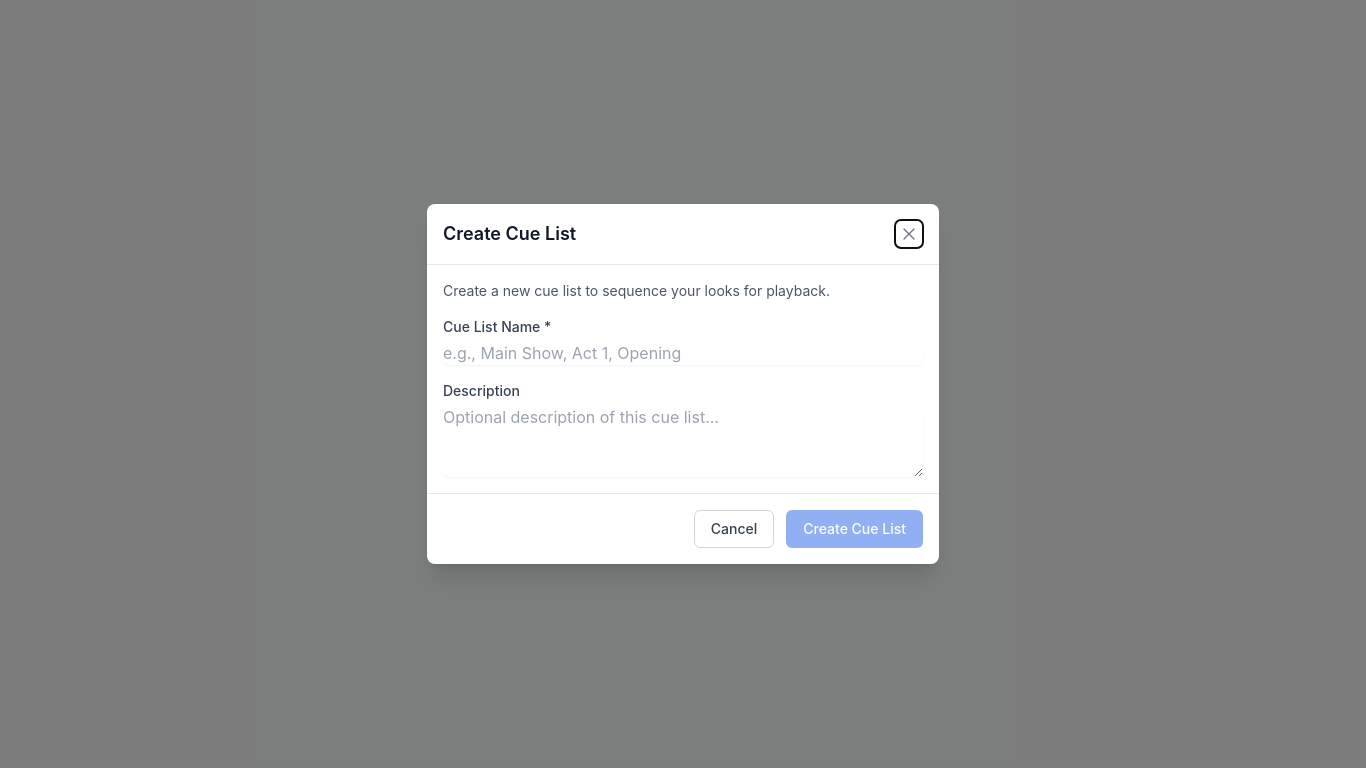
Test: CreateCueListModal › error handling › displays error message on mutation failure
Type "Test" into the field labelled "Cue List Name *" at (683, 353), box [443,341,923,365]
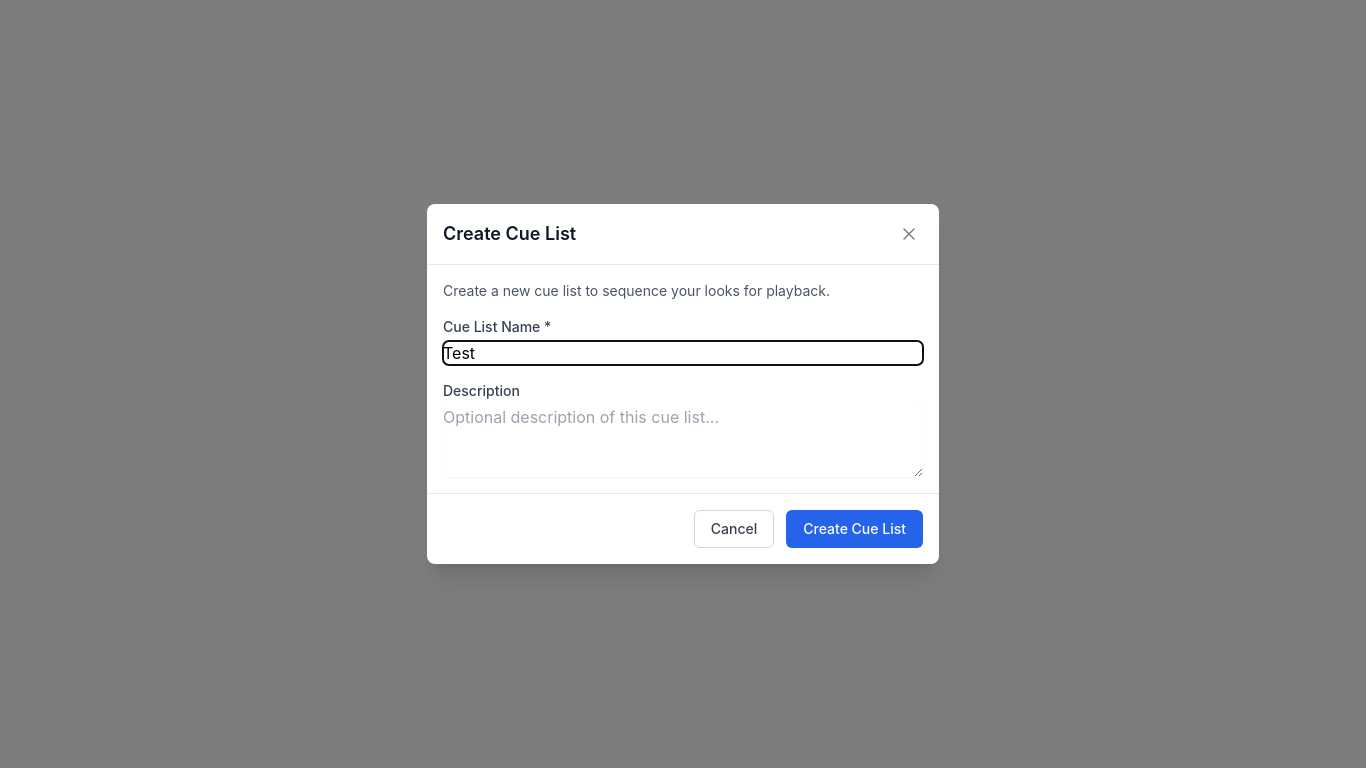
Click the button "Create Cue List" at (855, 529), box [786,510,923,548]
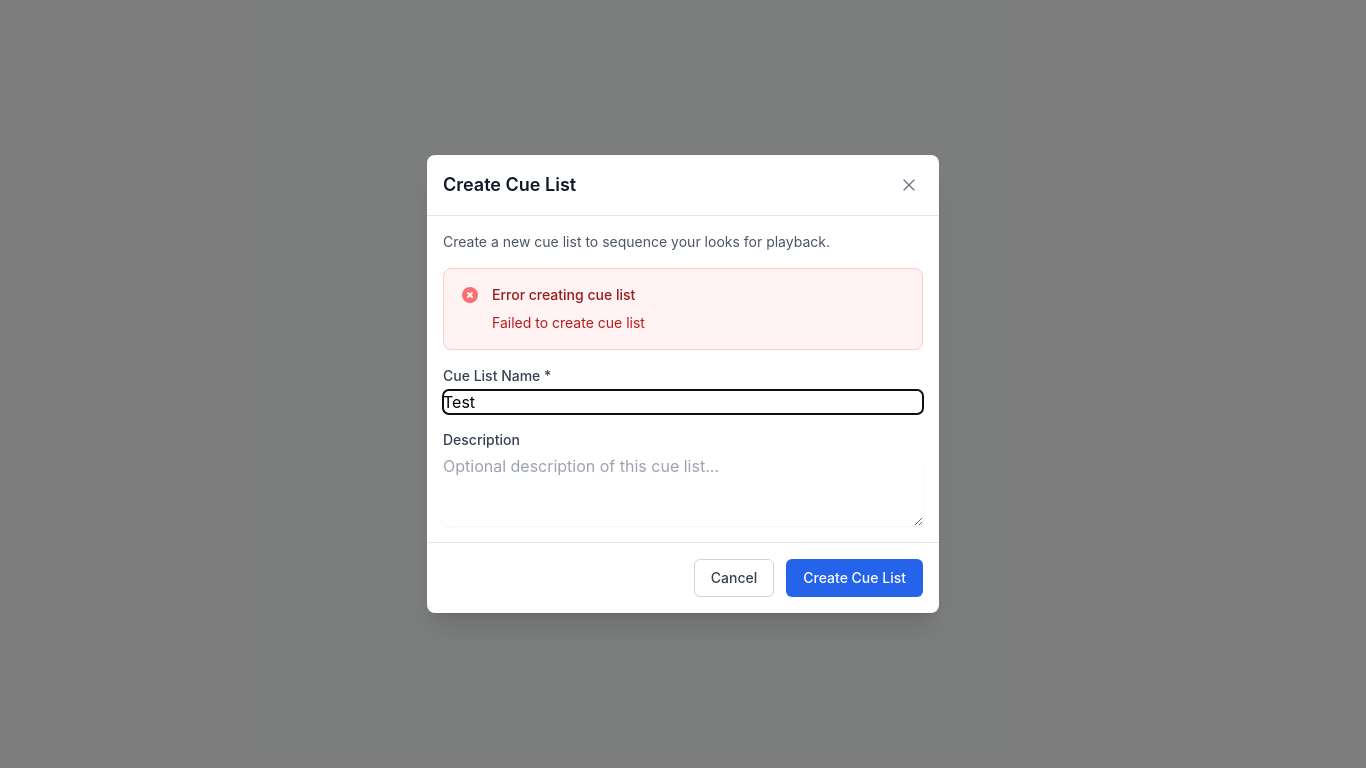
Result: the heading "Error creating cue list" is shown at [492,285,645,305]
Result: the text "Failed to create cue list" is shown at [492,313,645,333]
